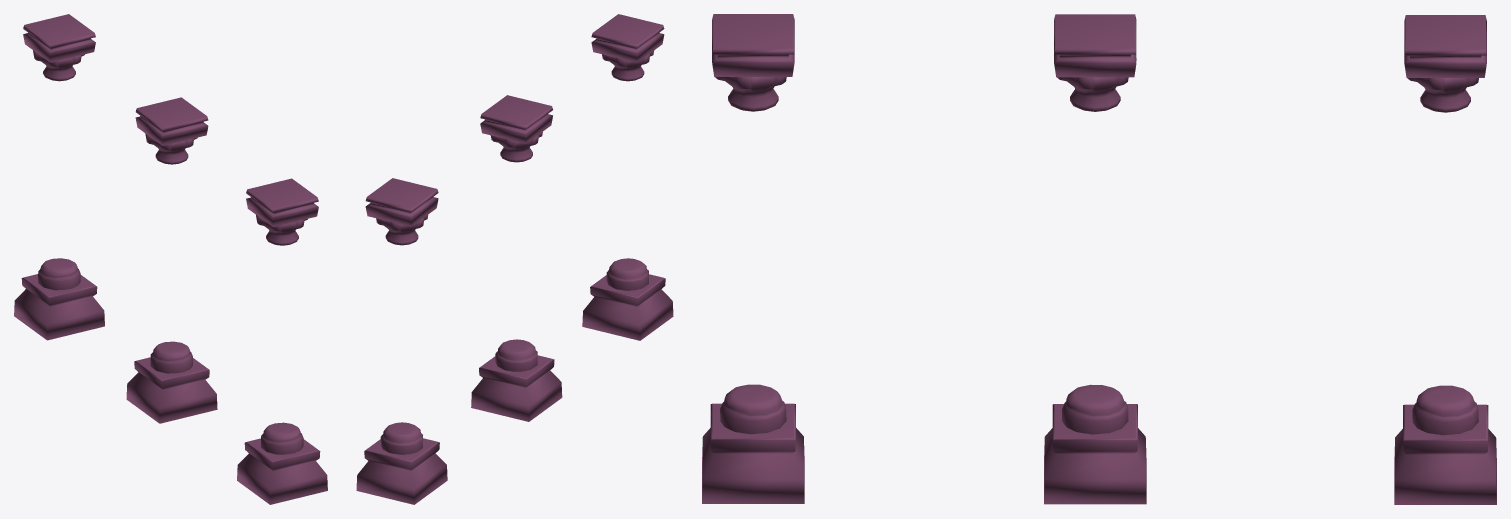
The model's file is Wall_Arc_06B_Lod0.fbx.
The picture shows the model from 3 angles, left to right: view 1: azimuth 30°, elevation 25°; view 2: azimuth 150°, elevation 25°; view 3: azimuth 270°, elevation 25°; orthographic projection. The views are drawn at different scales.
Parts seen in each view (by area): view 1: Wall_Arc_06B_Lod0; view 2: Wall_Arc_06B_Lod0; view 3: Wall_Arc_06B_Lod0.
Boxes of the visible parts, bbox=[...] form: Wall_Arc_06B_Lod0: bbox=[14, 14, 327, 504]; Wall_Arc_06B_Lod0: bbox=[356, 14, 673, 504]; Wall_Arc_06B_Lod0: bbox=[702, 14, 1496, 504].
Bounding box in the file's own units: 62.32 × 294 × 470.
